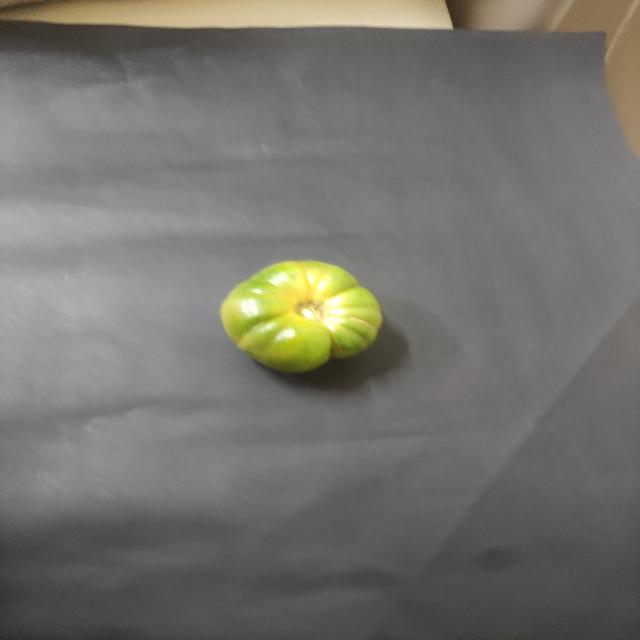yesil: (208, 252, 418, 386)
